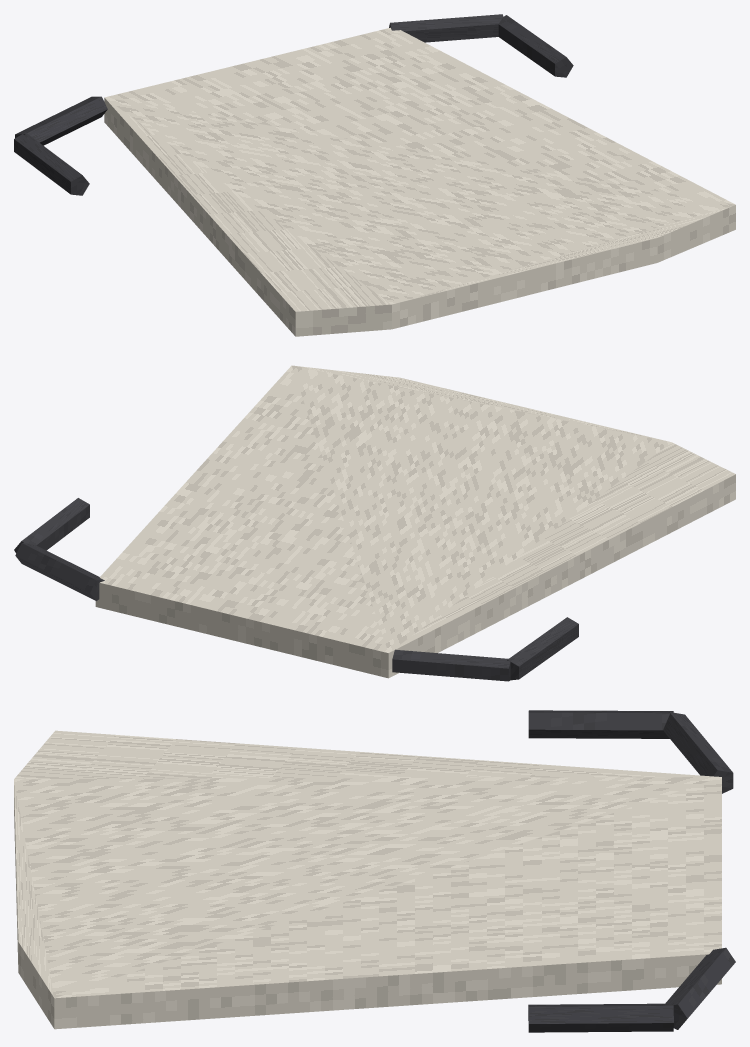
The model's file is waist_apron_long.glb.
3 views of the same model, one above another, from view 1: azimuth 30°, elevation 25°; view 2: azimuth 150°, elevation 25°; view 3: azimuth 270°, elevation 25° (orthographic). The views are drawn at different scales.
Parts seen in each view (by area): view 1: block_long cotton apron, block_tied apron straps 0 (×2), block_tied apron straps 1 (×2); view 2: block_long cotton apron, block_tied apron straps 0 (×2), block_tied apron straps 1 (×2); view 3: block_long cotton apron, block_tied apron straps 1 (×2), block_tied apron straps 0 (×2).
Boxes of the visible parts, x1,y1,x2,y2 form: block_long cotton apron: (104,27,735,336); block_tied apron straps 0 (×2): (15,14,503,145); block_tied apron straps 1 (×2): (14,15,573,195); block_long cotton apron: (95,365,735,678); block_tied apron straps 0 (×2): (15,543,511,681); block_tied apron straps 1 (×2): (14,498,578,680); block_long cotton apron: (14,730,721,1029); block_tied apron straps 1 (×2): (528,710,673,1032); block_tied apron straps 0 (×2): (663,712,735,1029).
Bounding box in the file's own units: 0.3832 × 0.0205 × 0.3824.
Materials: 1 (1 with a texture image).
